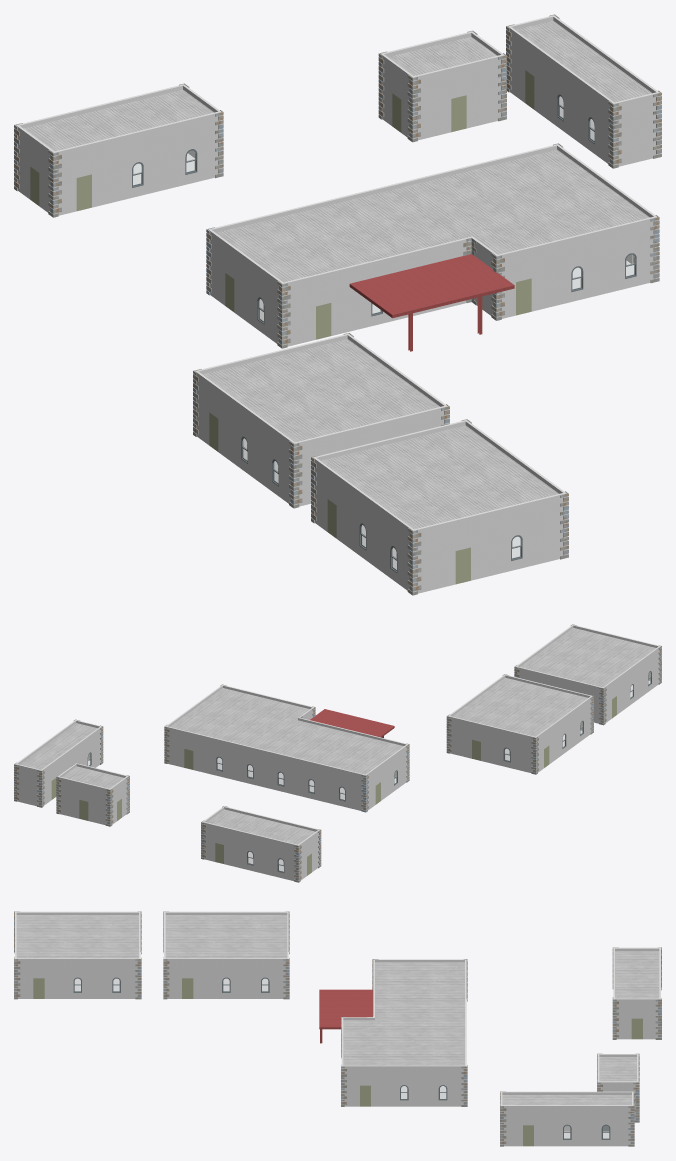
Rendered from Plan(REF)_levels(1)_window(W Arch Head 23_3-5)_wall(WAFRA WALL)_quoin(Y)_cornice(N).fbx.
The picture shows the model from 3 angles, top to bottom: view 1: azimuth 30°, elevation 25°; view 2: azimuth 150°, elevation 25°; view 3: azimuth 270°, elevation 25°; orthographic projection. The views are drawn at different scales.
Parts seen in each view (by area): view 1: WAFRA Stucco - White Rough 23, WAFRA Roof - Corrugated Sheet Matte 23, WAFRA Stone - Slate Natural 23, WAFRA Roof - Standing Seam Red Coat 23, Color - Beige, Color - White, Metal - Finish - Aluminum, Glass - Clear; view 2: WAFRA Stucco - White Rough 23, WAFRA Roof - Corrugated Sheet Matte 23, WAFRA Stone - Slate Natural 23, Color - Beige, WAFRA Roof - Standing Seam Red Coat 23, Metal - Finish - Aluminum, Color - White, Glass - Clear; view 3: WAFRA Roof - Corrugated Sheet Matte 23, WAFRA Stucco - White Rough 23, WAFRA Stone - Slate Natural 23, WAFRA Roof - Standing Seam Red Coat 23, Color - Beige, Color - White, Metal - Finish - Aluminum, Glass - Clear.
Part boxes in pixels (x1,y1,x2,y2): WAFRA Stucco - White Rough 23: (16,15,659,593); WAFRA Roof - Corrugated Sheet Matte 23: (23,20,651,529); WAFRA Stone - Slate Natural 23: (14,14,661,595); WAFRA Roof - Standing Seam Red Coat 23: (349,254,514,351); Color - Beige: (30,70,634,584); Color - White: (14,29,661,591); Metal - Finish - Aluminum: (132,94,636,572); Glass - Clear: (133,96,634,569); WAFRA Stucco - White Rough 23: (15,624,660,880); WAFRA Roof - Corrugated Sheet Matte 23: (20,628,655,844); WAFRA Stone - Slate Natural 23: (14,624,661,882); Color - Beige: (51,696,616,875); WAFRA Roof - Standing Seam Red Coat 23: (310,709,394,737); Metal - Finish - Aluminum: (71,671,651,872); Color - White: (14,648,661,880); Glass - Clear: (88,672,650,871); WAFRA Roof - Corrugated Sheet Matte 23: (16,915,659,1105); WAFRA Stucco - White Rough 23: (15,911,660,1146); WAFRA Stone - Slate Natural 23: (14,911,661,1146); WAFRA Roof - Standing Seam Red Coat 23: (319,989,373,1043); Color - Beige: (33,978,642,1146); Color - White: (14,927,661,1144); Metal - Finish - Aluminum: (73,977,610,1139); Glass - Clear: (75,978,608,1138).
Bounding box in the file's own units: 4163 × 5848 × 400.
Materials: 12 (5 with a texture image).
